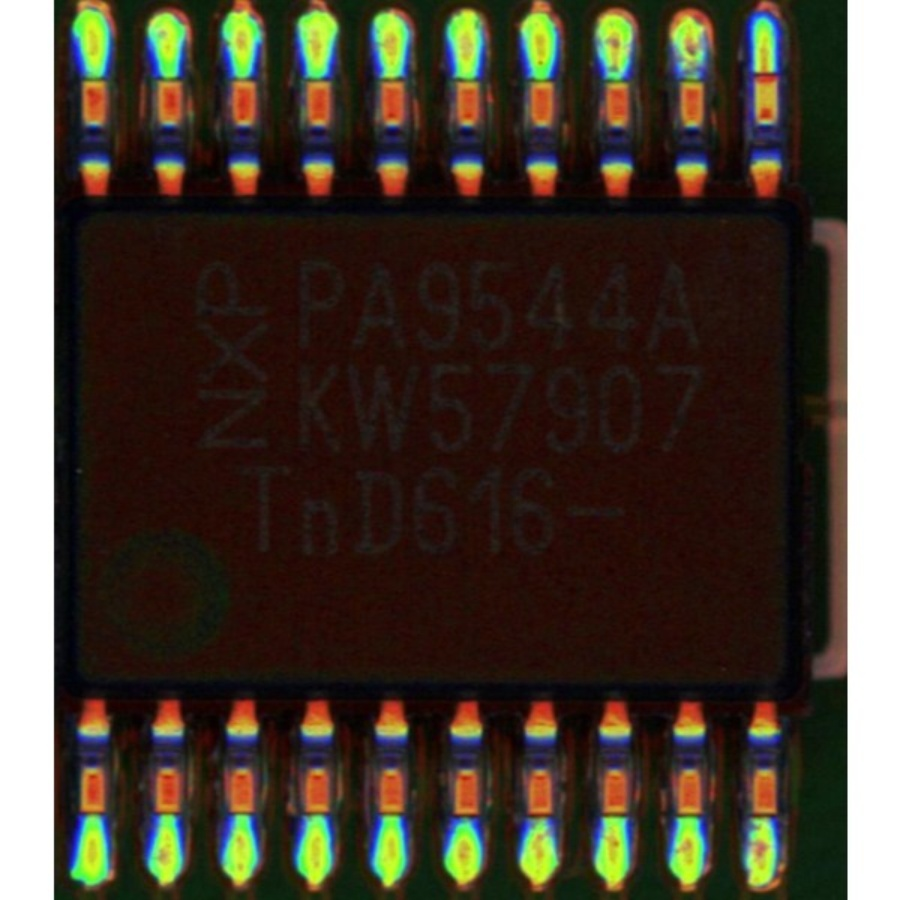Bad_podu: (756, 60, 775, 86)
